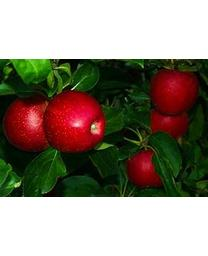apple: (44, 91, 106, 152), (3, 95, 50, 156), (150, 70, 198, 115), (128, 150, 164, 188), (148, 110, 189, 138)
